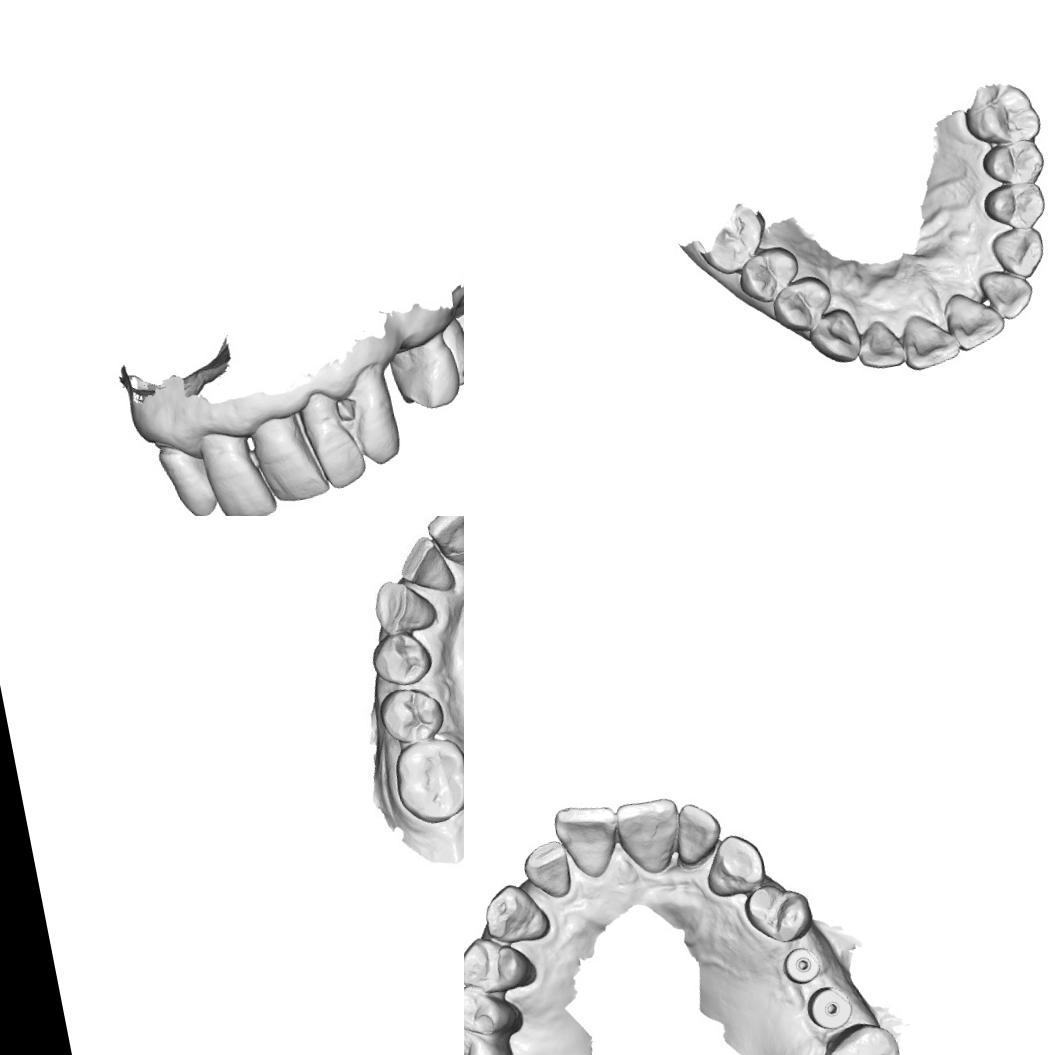canine: (476, 876, 552, 950), (696, 829, 771, 903), (153, 435, 219, 516), (366, 570, 441, 640), (804, 304, 866, 370), (988, 222, 1052, 284)
implant: (802, 980, 853, 1032), (778, 942, 824, 988)
incisor: (192, 420, 279, 516), (246, 420, 330, 508), (608, 790, 686, 882), (550, 796, 626, 884), (304, 412, 370, 494), (941, 283, 1010, 354), (392, 530, 458, 601), (350, 393, 408, 470), (896, 306, 961, 373), (666, 797, 725, 869), (975, 262, 1040, 325), (517, 833, 576, 901), (852, 312, 912, 376), (422, 516, 464, 567)
molar: (388, 732, 464, 828), (956, 76, 1042, 148), (806, 1016, 910, 1055), (464, 1015, 516, 1055), (452, 301, 464, 370)
premolar: (385, 335, 464, 416), (737, 876, 816, 950), (464, 924, 537, 1003), (731, 241, 806, 310), (766, 270, 839, 340), (374, 681, 448, 750), (366, 624, 437, 692), (978, 176, 1050, 237), (976, 134, 1048, 192), (464, 974, 521, 1044), (434, 313, 464, 388)
